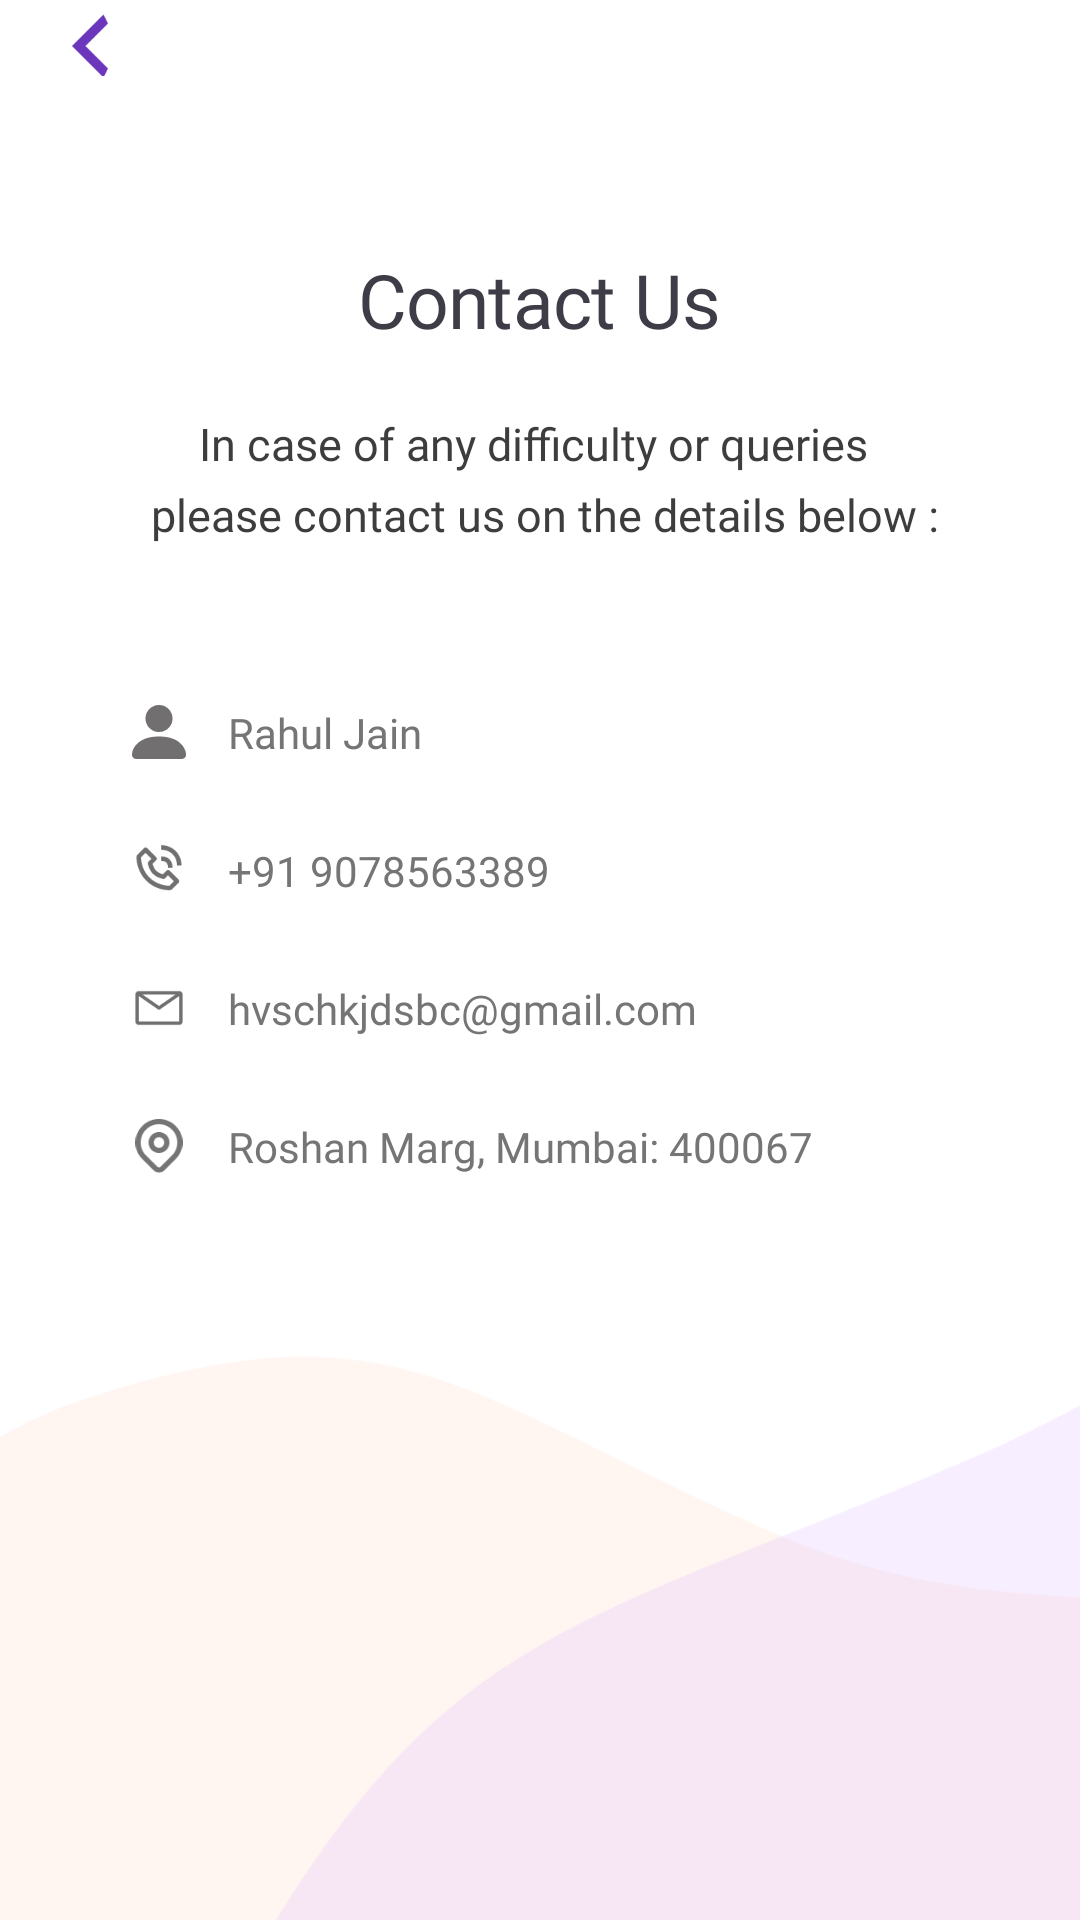

Locate icon controls on the screen. Image size 1080 × 1920, boxes as (left=x1, top=y1, right=x2, bottom=y2).
back: (left=72, top=14, right=108, bottom=76)
email: (left=135, top=991, right=183, bottom=1025)
location: (left=135, top=1119, right=183, bottom=1173)
person: (left=132, top=705, right=186, bottom=759)
phone call: (left=136, top=845, right=182, bottom=890)
